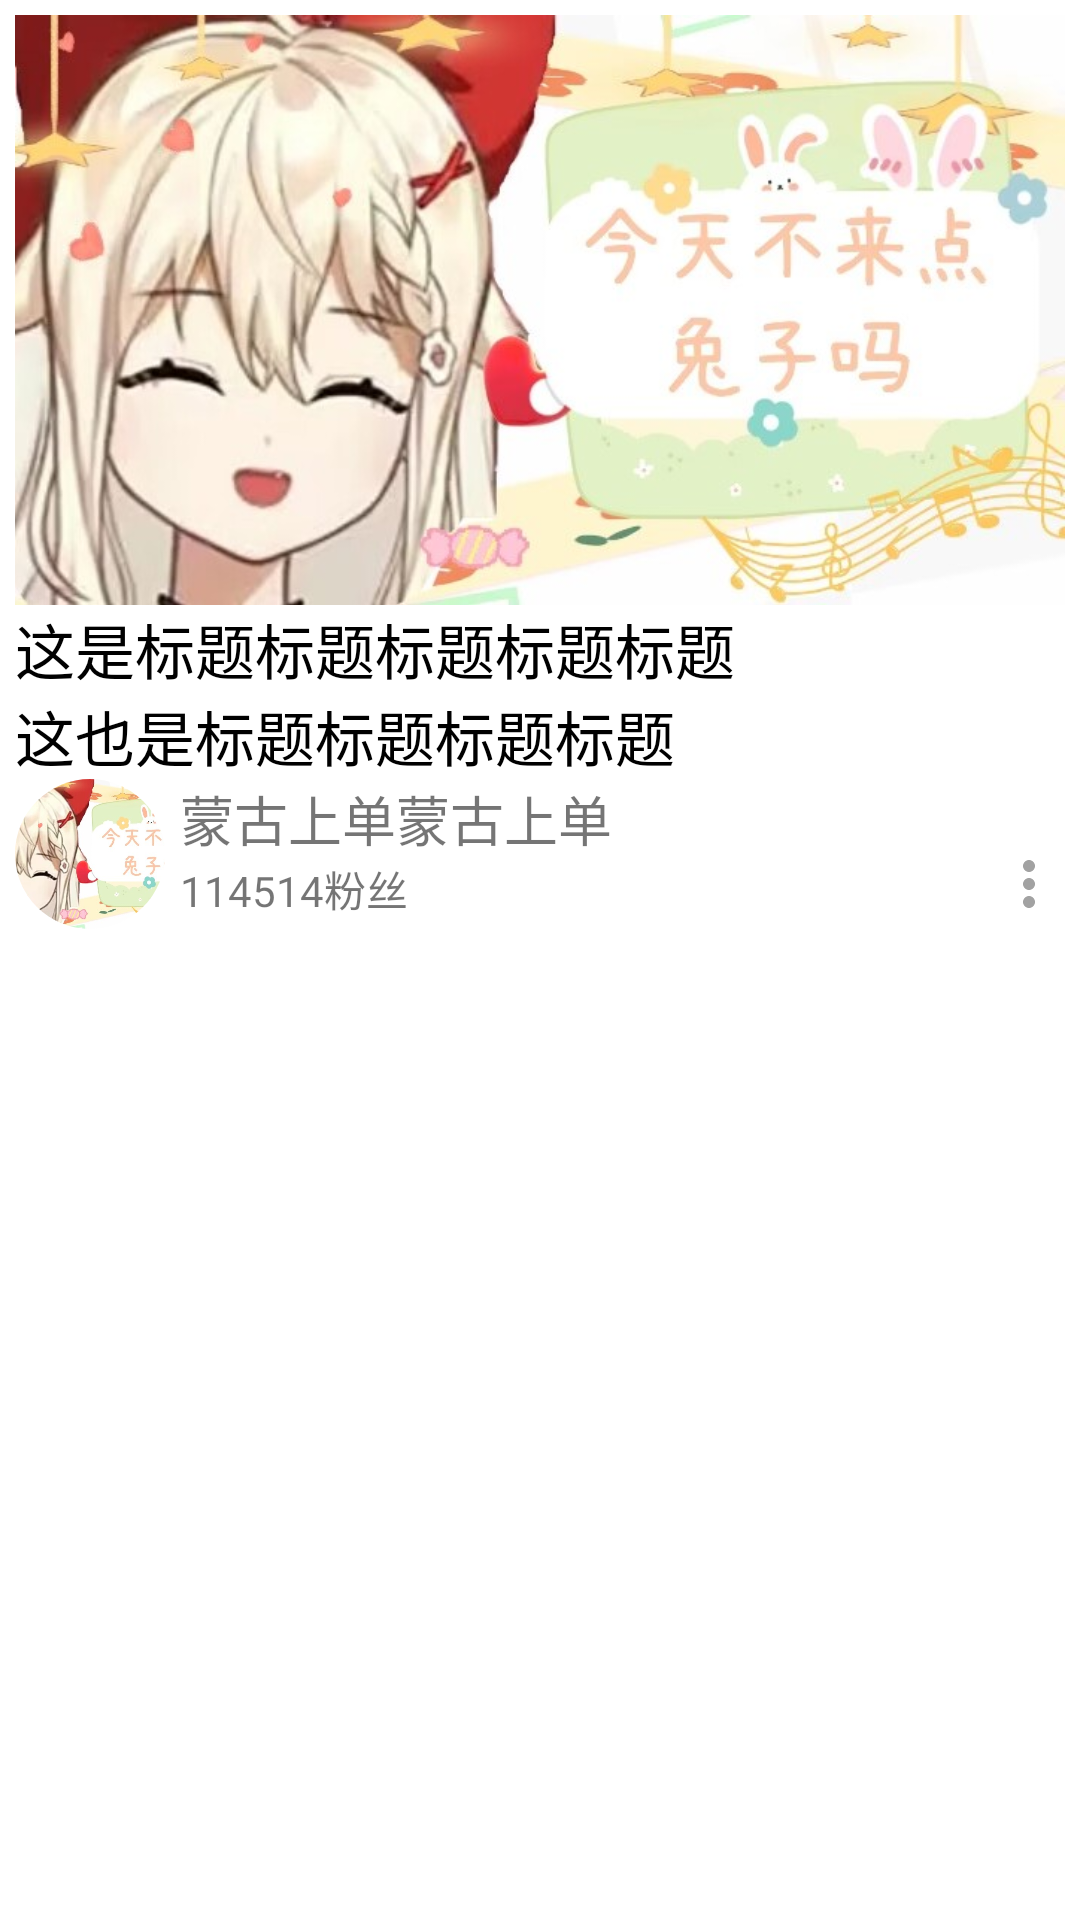

Icons on this 1080*1920 Android screen, each with the point to tap as point (x, y):
more: point (1029, 884)
